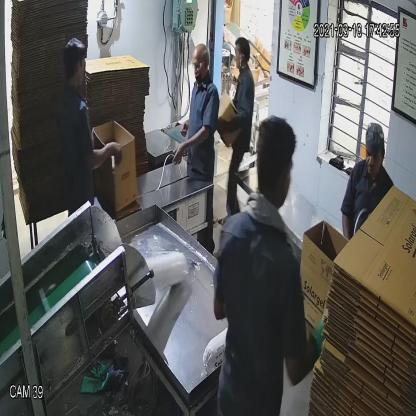no_glove: (77, 130, 132, 178), (170, 123, 215, 172)
